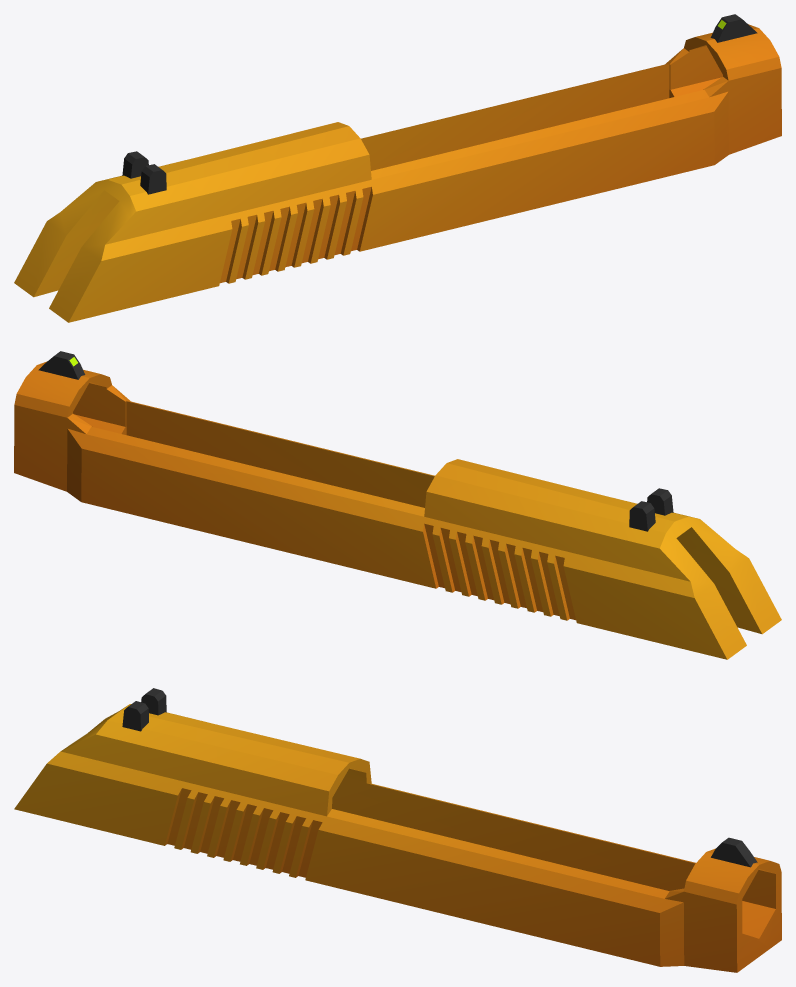
The model's file is Pistol1_05_2.fbx.
3 renders of one model, top to bottom at view 1: azimuth 30°, elevation 25°; view 2: azimuth 150°, elevation 25°; view 3: azimuth 330°, elevation 25°, orthographic.
Visible parts, largest first — view 1: Pistol1_05_2; view 2: Pistol1_05_2; view 3: Pistol1_05_2.
Boxes of the visible parts, box(x1,y1,x2,y2) form: Pistol1_05_2: box(14, 14, 781, 322); Pistol1_05_2: box(14, 351, 781, 659); Pistol1_05_2: box(14, 688, 781, 972).
Size of the model in its own units: 0.2348 by 0.0363 by 0.0308.
